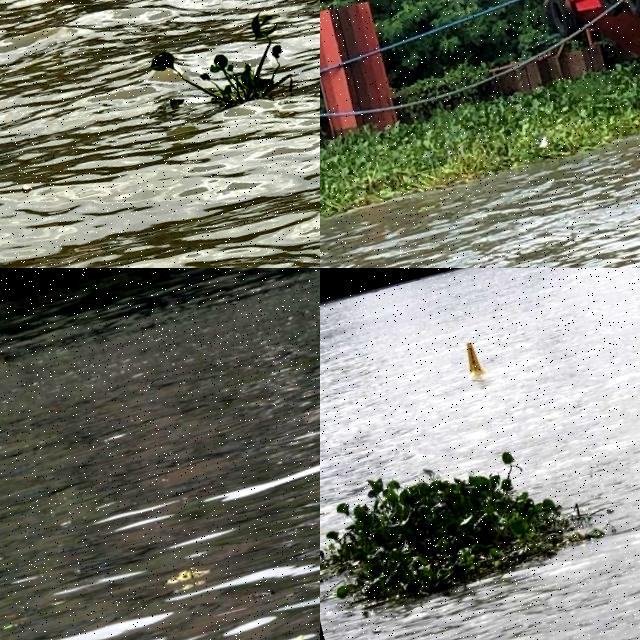water-hyacinth: (321, 415, 622, 637), (320, 60, 640, 207), (146, 4, 314, 130)
